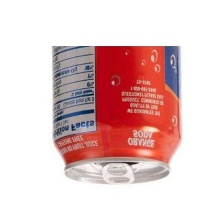can: (48, 44, 183, 192)
